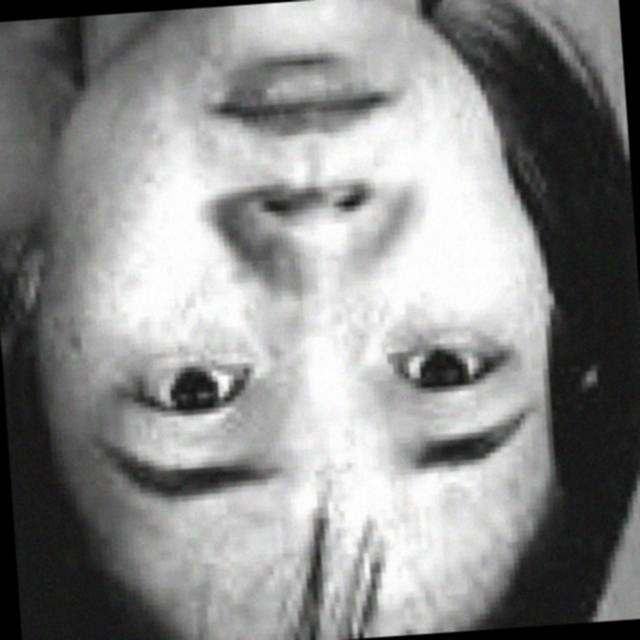fear: (29, 0, 612, 617)
